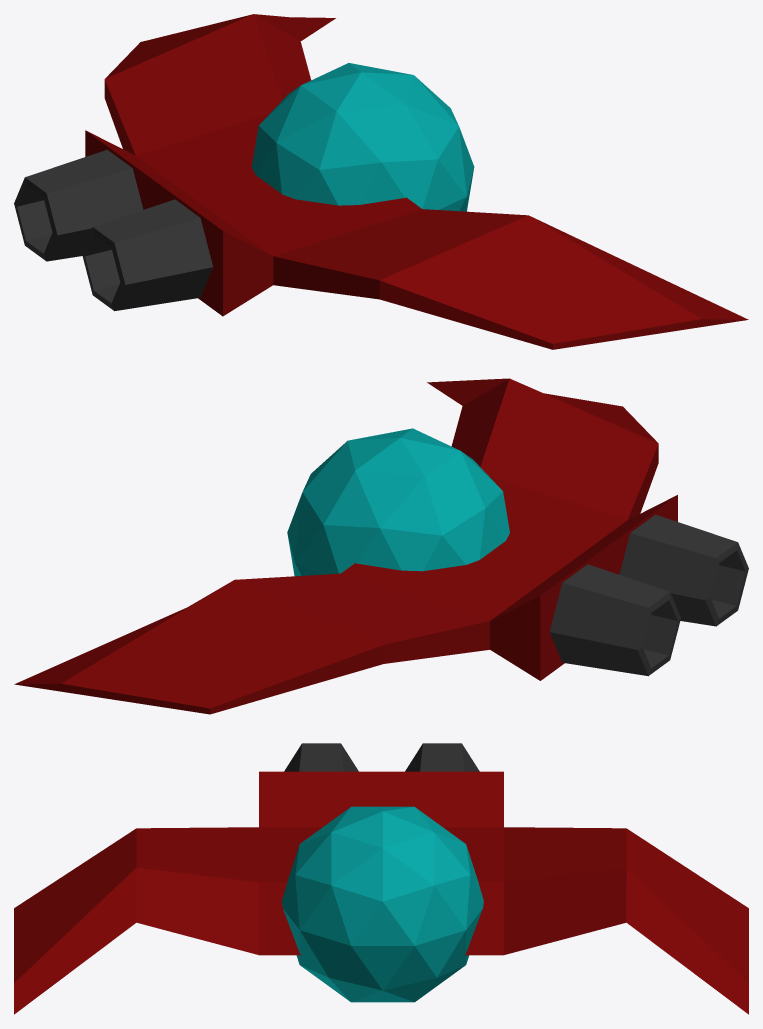
The model's file is Ship1.obj.
3 views of the same model, one above another, from view 1: azimuth 30°, elevation 25°; view 2: azimuth 150°, elevation 25°; view 3: azimuth 270°, elevation 25° (orthographic). The views are drawn at different scales.
Parts seen in each view (by area): view 1: Body_Cube, Cockpit_Icosphere.001, EngineR_Cylinder.001, EngineL_Cylinder.002; view 2: Body_Cube, Cockpit_Icosphere.001, EngineL_Cylinder.002, EngineR_Cylinder.001; view 3: Body_Cube, Cockpit_Icosphere.001, EngineL_Cylinder.002, EngineR_Cylinder.001.
Boxes of the visible parts, x1,y1,x2,y2 form: Body_Cube: (85,14,748,349); Cockpit_Icosphere.001: (251,63,474,211); EngineR_Cylinder.001: (82,199,212,311); EngineL_Cylinder.002: (14,149,143,261); Body_Cube: (14,378,677,714); Cockpit_Icosphere.001: (287,428,509,576); EngineL_Cylinder.002: (549,564,680,676); EngineR_Cylinder.001: (619,514,748,626); Body_Cube: (14,771,748,1014); Cockpit_Icosphere.001: (282,806,483,1002); EngineL_Cylinder.002: (405,743,479,771); EngineR_Cylinder.001: (284,743,358,771).
Size of the model in its own units: 6.36 by 2.68 by 9.58.
